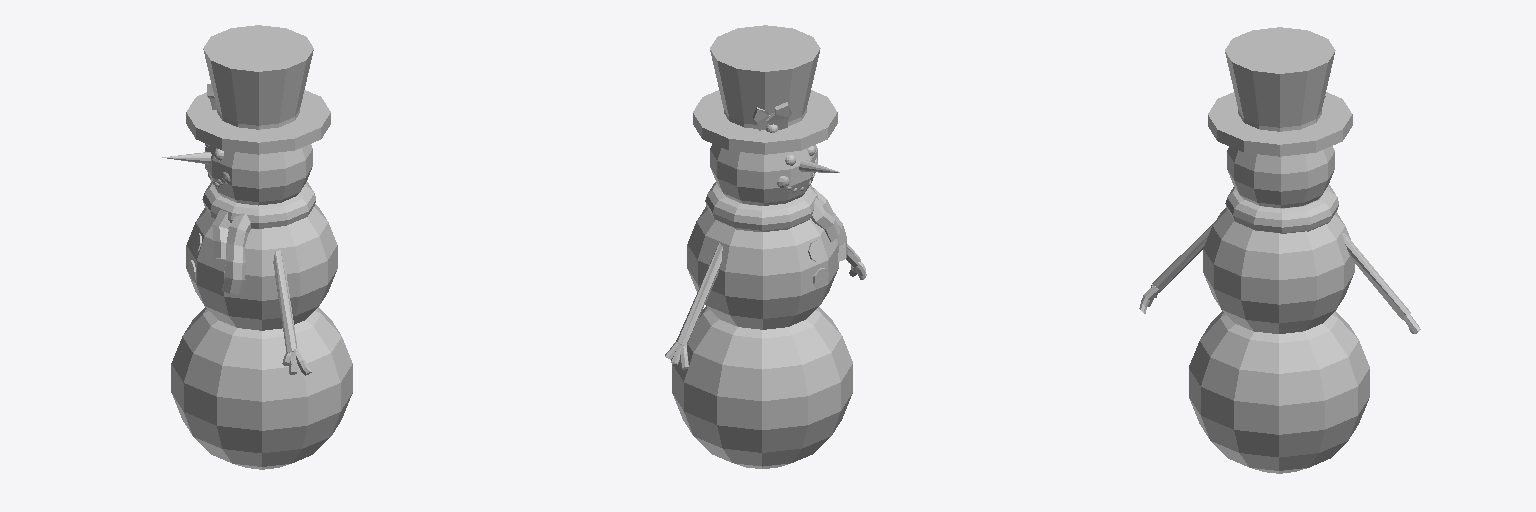
3 renders of one model, left to right at view 1: azimuth 30°, elevation 25°; view 2: azimuth 150°, elevation 25°; view 3: azimuth 270°, elevation 25°, orthographic.
Parts seen in each view (by area): view 1: group[number redacted], group[number redacted], group[number redacted], group[number redacted], group[number redacted], group[number redacted], group[number redacted], group[number redacted], group[number redacted]; view 2: group[number redacted], group[number redacted], group[number redacted], group[number redacted], group[number redacted], group[number redacted], group[number redacted], group[number redacted]; view 3: group[number redacted], group[number redacted], group[number redacted], group[number redacted], group[number redacted], group[number redacted], group[number redacted], group[number redacted].
Boxes of the visible parts, box(x1,y1,x2,y2) form: group[number redacted]: box(171, 307, 352, 469); group[number redacted]: box(186, 204, 337, 330); group[number redacted]: box(203, 25, 313, 129); group[number redacted]: box(186, 90, 330, 154); group[number redacted]: box(205, 144, 312, 205); group[number redacted]: box(202, 182, 315, 228); group[number redacted]: box(222, 213, 250, 294); group[number redacted]: box(273, 250, 296, 352); group[number redacted]: box(212, 210, 230, 259); group[number redacted]: box(672, 306, 852, 468); group[number redacted]: box(687, 206, 838, 329); group[number redacted]: box(710, 25, 820, 128); group[number redacted]: box(693, 90, 837, 154); group[number redacted]: box(710, 144, 817, 205); group[number redacted]: box(705, 182, 818, 231); group[number redacted]: box(676, 243, 722, 346); group[number redacted]: box(811, 198, 839, 242); group[number redacted]: box(1189, 311, 1369, 473); group[number redacted]: box(1203, 208, 1354, 333); group[number redacted]: box(1225, 27, 1335, 131); group[number redacted]: box(1227, 146, 1334, 207); group[number redacted]: box(1208, 92, 1352, 156); group[number redacted]: box(1225, 185, 1338, 233); group[number redacted]: box(1342, 233, 1410, 319); group[number redacted]: box(1151, 222, 1214, 292).
Bounding box in the file's own units: 0.4444 × 1.04 × 0.6411.